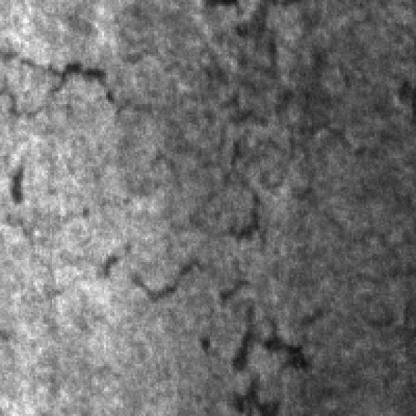crazing: (0, 2, 343, 248), (91, 239, 327, 416)
